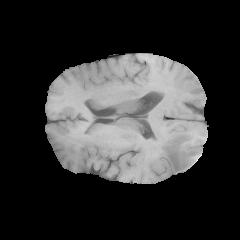glioma: (135, 133, 202, 183)
